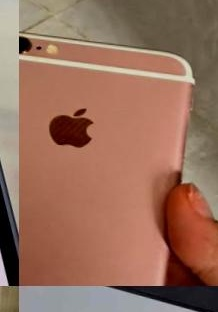scratch: (164, 160, 176, 187)
